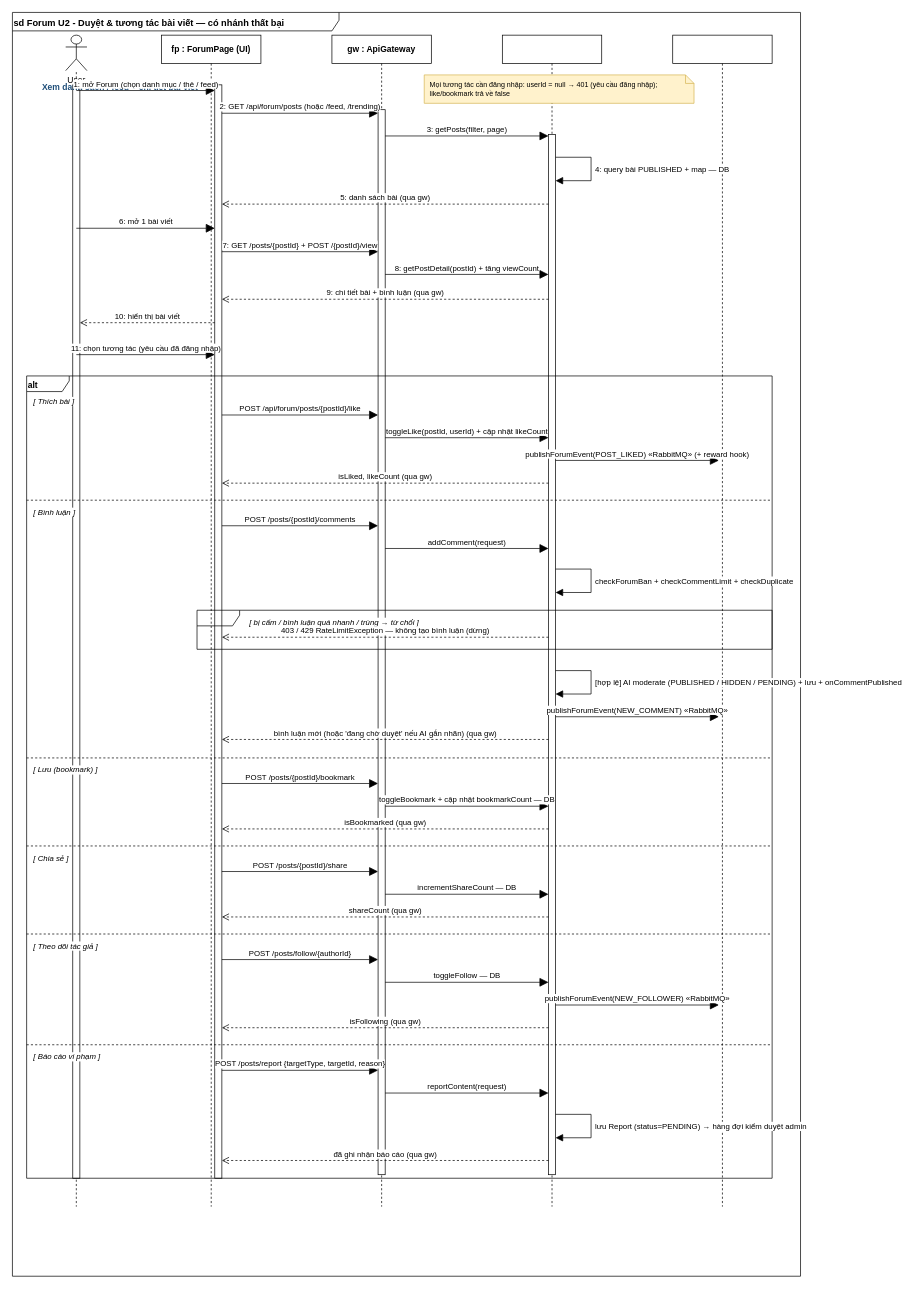
Some shapes in this 914 by 1289 pixel diagram are drawn without their labels. The box of each missing label's shape, as (x1, y1, x2, y2) in pixels:
fs : ForumService: (502, 34, 602, 1207)
mq : RabbitMQ (notification): (672, 34, 772, 1207)
opt: (196, 610, 772, 649)
